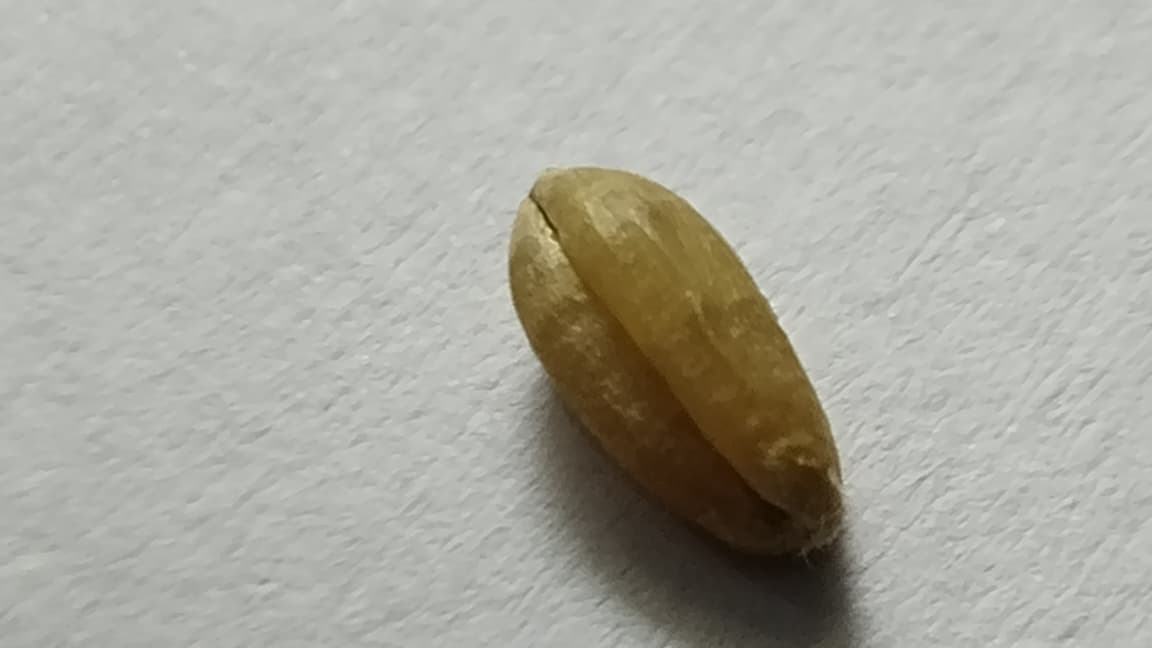healthy: (511, 167, 843, 554)
